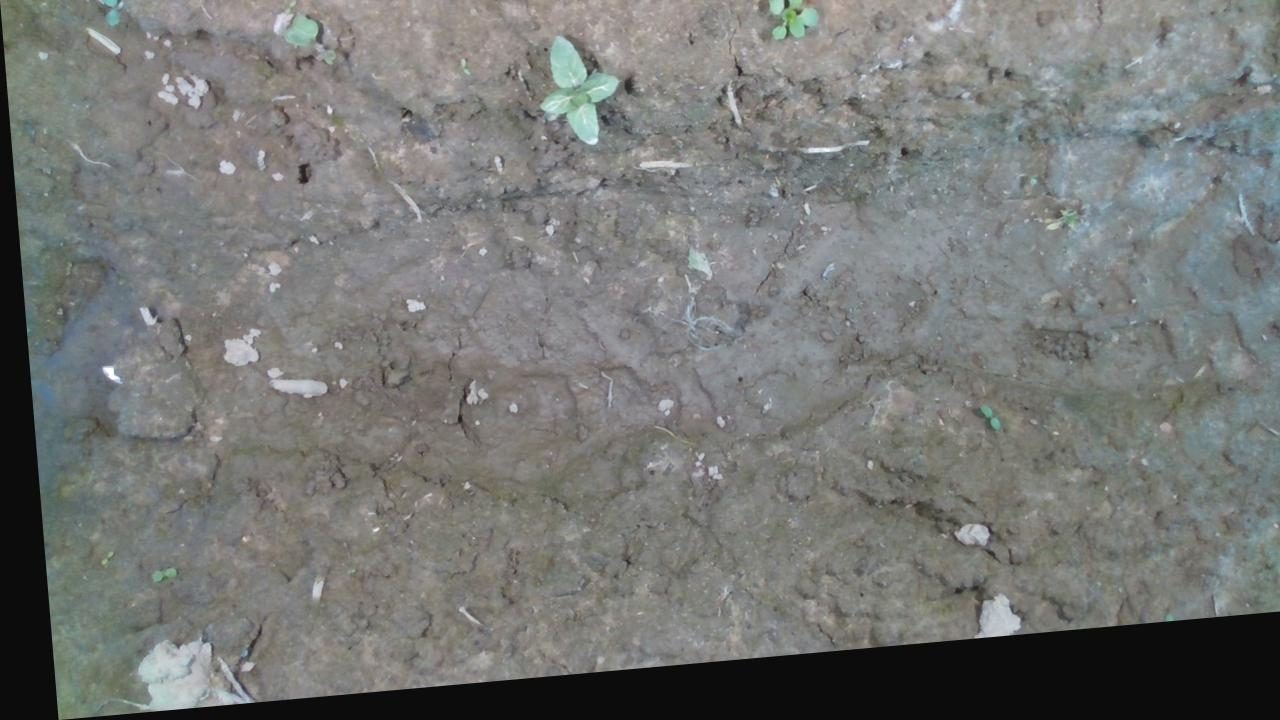weed: (960, 415, 1000, 452), (134, 565, 180, 586), (84, 549, 110, 566)
